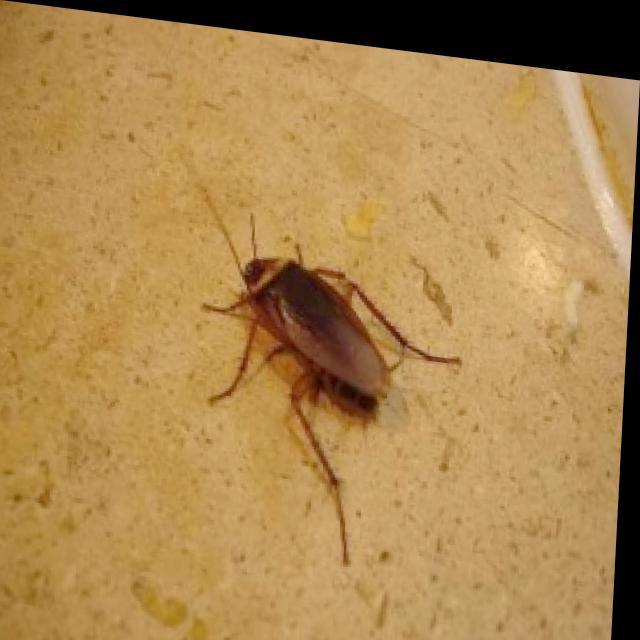cockroach: (189, 184, 464, 569)
